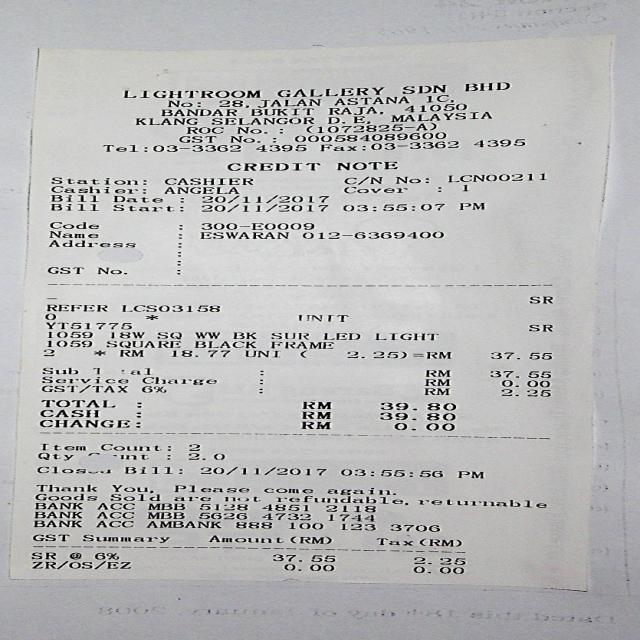text: (292, 131, 445, 142), (305, 122, 436, 133), (199, 466, 324, 476), (121, 89, 258, 98), (416, 499, 546, 508), (274, 495, 402, 504), (389, 111, 492, 122), (301, 231, 442, 239), (207, 535, 331, 544), (275, 87, 384, 97), (200, 195, 327, 203), (200, 204, 327, 212), (210, 116, 314, 125), (38, 418, 130, 428), (340, 203, 442, 212), (447, 173, 546, 182), (338, 469, 441, 477), (369, 141, 458, 150), (30, 561, 129, 569), (199, 223, 312, 230), (82, 534, 168, 543), (374, 538, 460, 547), (49, 177, 144, 185), (225, 163, 318, 171), (345, 351, 449, 358), (164, 177, 252, 185), (40, 384, 127, 392), (120, 305, 218, 312), (332, 96, 408, 105), (378, 412, 454, 421), (50, 186, 146, 193), (254, 98, 319, 108), (150, 145, 241, 152), (40, 376, 127, 383), (48, 240, 134, 247), (44, 322, 130, 329), (39, 400, 114, 408), (145, 520, 220, 528), (142, 377, 215, 385), (402, 103, 466, 112), (393, 422, 455, 431), (326, 487, 394, 495), (335, 161, 395, 170), (378, 403, 454, 410), (172, 485, 248, 492), (198, 232, 286, 238), (160, 109, 235, 116), (162, 187, 237, 194), (34, 466, 109, 473), (105, 341, 179, 348), (268, 341, 332, 349), (250, 108, 313, 116), (133, 117, 196, 125), (271, 554, 334, 562), (488, 370, 549, 378), (86, 452, 147, 460), (328, 106, 382, 115), (91, 367, 151, 375), (124, 466, 184, 474), (38, 410, 97, 418), (399, 84, 446, 94), (111, 204, 175, 211), (343, 186, 406, 193), (374, 334, 437, 341), (192, 341, 255, 348), (32, 493, 95, 500), (99, 444, 161, 451), (412, 557, 466, 565), (45, 304, 106, 311), (489, 352, 550, 359), (35, 484, 96, 491), (472, 139, 524, 147), (280, 563, 332, 571), (412, 566, 464, 574), (462, 82, 508, 91), (170, 350, 229, 357), (254, 144, 305, 152), (46, 221, 96, 229), (296, 314, 346, 322), (498, 388, 548, 396), (388, 524, 438, 532), (259, 504, 307, 512), (197, 512, 245, 520), (325, 115, 367, 124), (50, 194, 97, 202), (50, 203, 97, 211), (328, 514, 374, 522), (109, 494, 160, 501), (323, 505, 374, 512), (112, 195, 161, 202), (47, 231, 96, 238), (196, 503, 245, 510), (32, 511, 81, 518), (32, 520, 81, 527), (500, 380, 547, 387), (44, 331, 90, 338), (34, 502, 80, 509), (109, 484, 149, 492), (39, 443, 84, 450), (186, 452, 225, 460), (46, 340, 90, 347), (177, 135, 215, 143), (318, 144, 356, 152), (94, 511, 132, 519), (185, 126, 222, 134), (270, 332, 307, 340), (96, 502, 133, 510), (260, 514, 309, 520), (232, 126, 268, 134), (100, 144, 136, 152), (40, 367, 76, 375), (342, 177, 382, 184), (47, 266, 82, 274), (323, 332, 358, 340), (37, 452, 72, 460), (93, 520, 132, 527), (394, 176, 428, 184), (146, 503, 184, 510), (109, 331, 142, 339), (32, 534, 68, 541), (244, 350, 279, 357), (262, 488, 311, 493), (287, 522, 322, 529), (299, 411, 329, 419), (166, 100, 199, 107), (340, 523, 373, 530), (301, 401, 329, 409), (145, 512, 182, 518), (233, 522, 270, 528), (299, 422, 330, 429), (218, 99, 244, 107), (526, 324, 552, 332), (423, 387, 448, 395), (458, 202, 482, 210), (156, 331, 180, 339), (171, 496, 208, 501), (232, 331, 255, 339), (222, 496, 258, 501), (424, 370, 449, 377), (423, 379, 448, 386), (457, 471, 482, 478), (424, 95, 448, 102), (96, 267, 120, 274), (527, 296, 551, 303), (118, 350, 142, 357), (30, 552, 54, 559), (92, 552, 116, 559), (192, 332, 218, 338), (229, 136, 253, 142), (140, 386, 164, 392), (187, 444, 200, 451), (67, 552, 80, 559), (43, 312, 54, 320), (460, 184, 470, 192), (42, 349, 52, 356), (299, 350, 306, 358), (145, 315, 156, 320), (93, 350, 104, 355)
